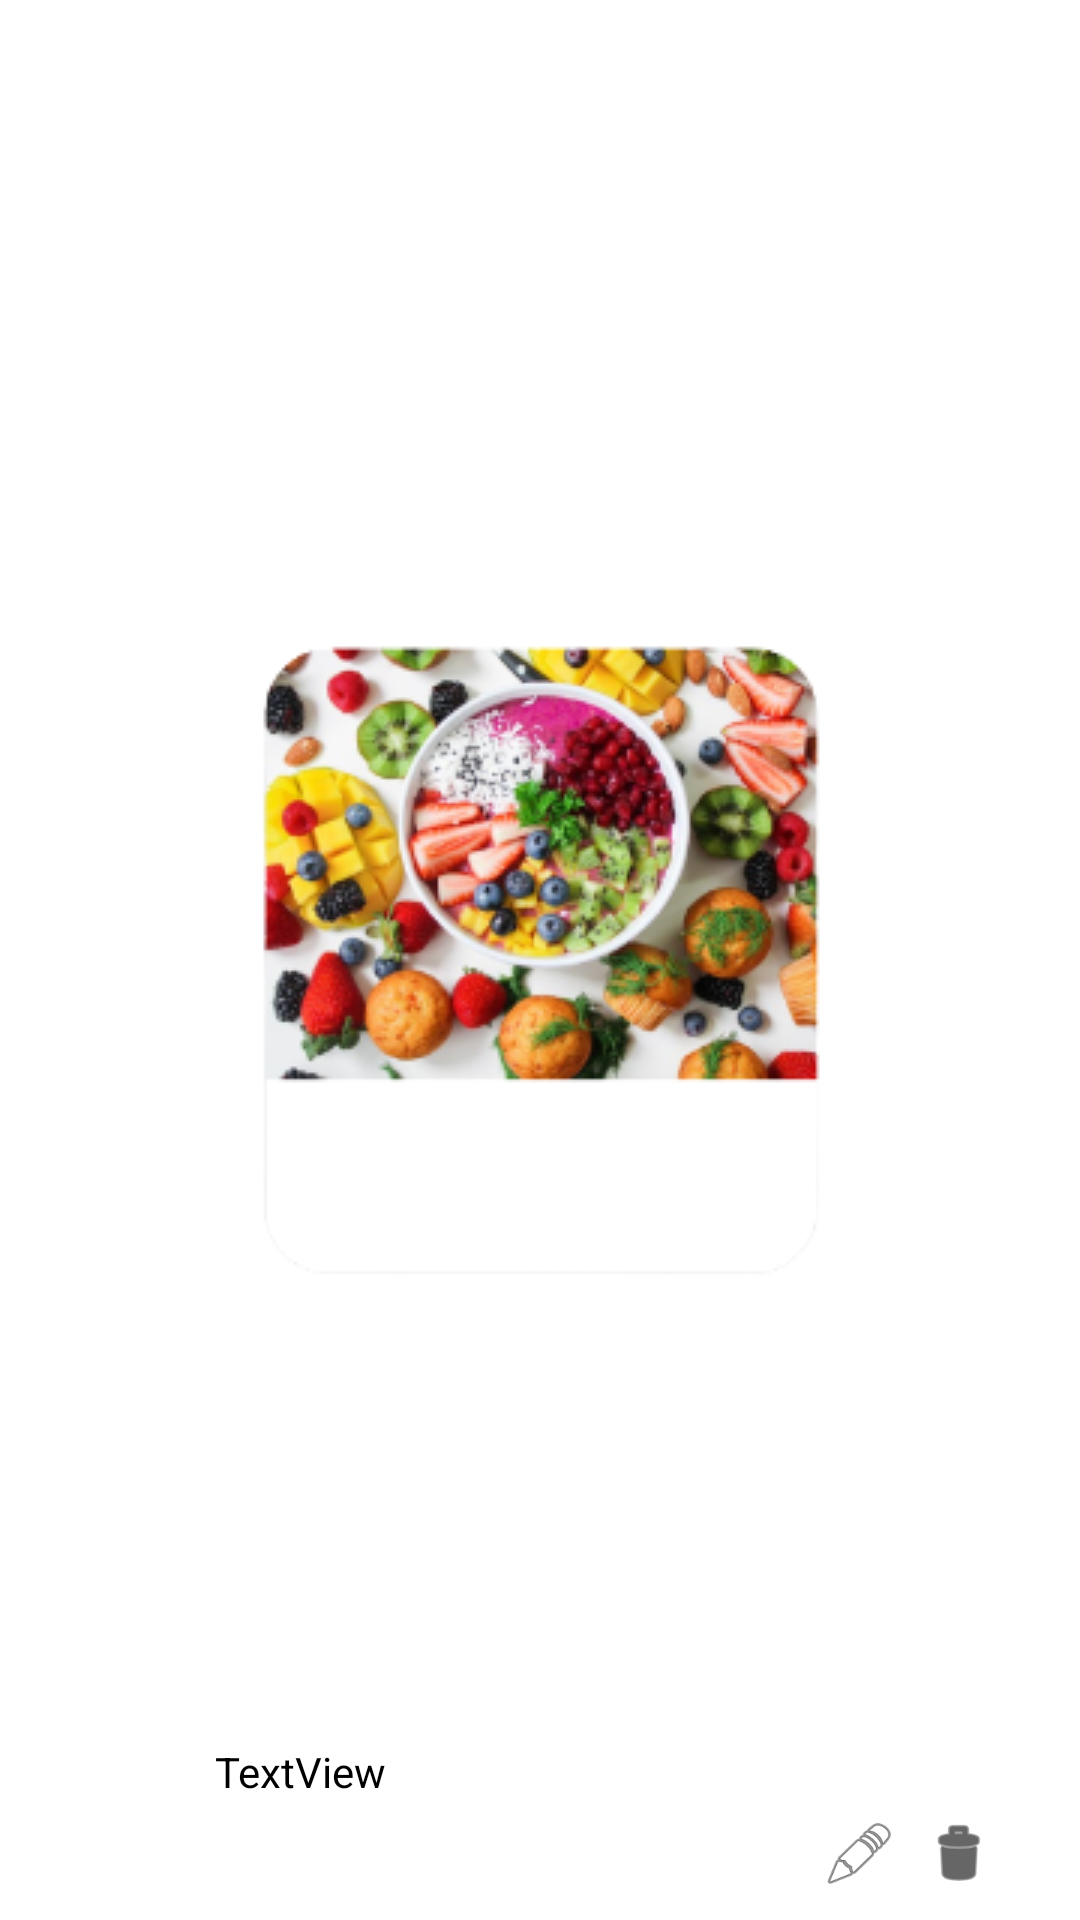

Locate icon controls on the screen. Image size 1080px x 1920px, boxes as region(x1, y1, x2, y2).
delete: region(938, 1825, 980, 1881)
edit: region(827, 1823, 891, 1884)
